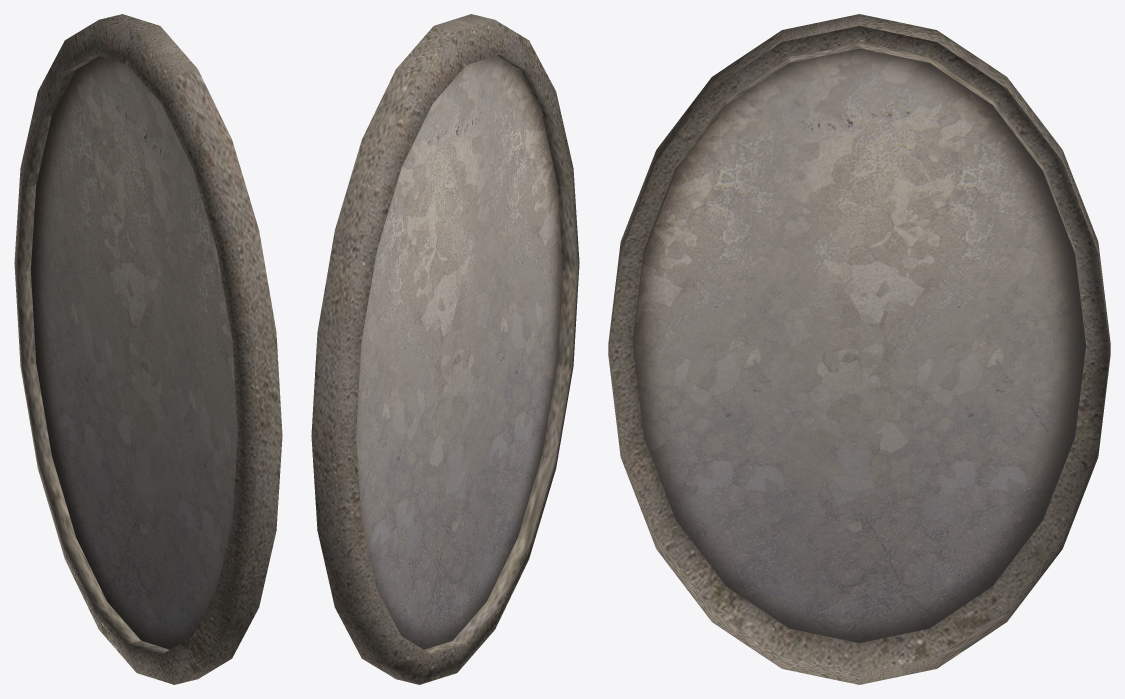
File: Mirror.fbx
3 views of the same model, side by side, from view 1: azimuth 30°, elevation 25°; view 2: azimuth 150°, elevation 25°; view 3: azimuth 270°, elevation 25° (orthographic). The views are drawn at different scales.
Visible parts, largest first — view 1: polySurface326; view 2: polySurface326; view 3: polySurface326.
Boxes of the visible parts, x1,y1,x2,y2 form: polySurface326: [14, 14, 282, 684]; polySurface326: [311, 14, 579, 684]; polySurface326: [608, 14, 1110, 684].
Bounding box in the file's own units: 0.3481 × 6.53 × 4.51.
